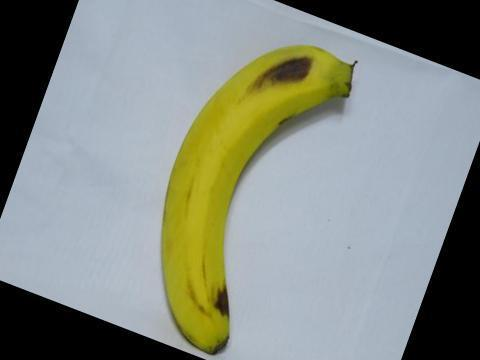freshripe: (138, 30, 369, 359)
